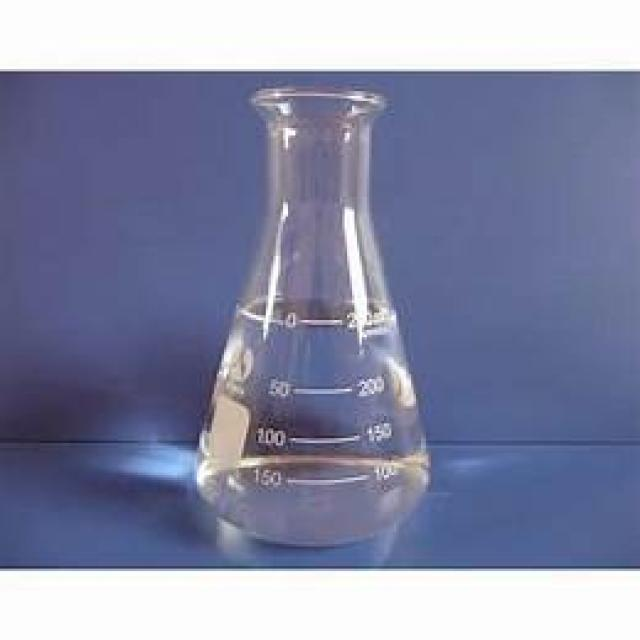Titrarion: (195, 93, 446, 547)
